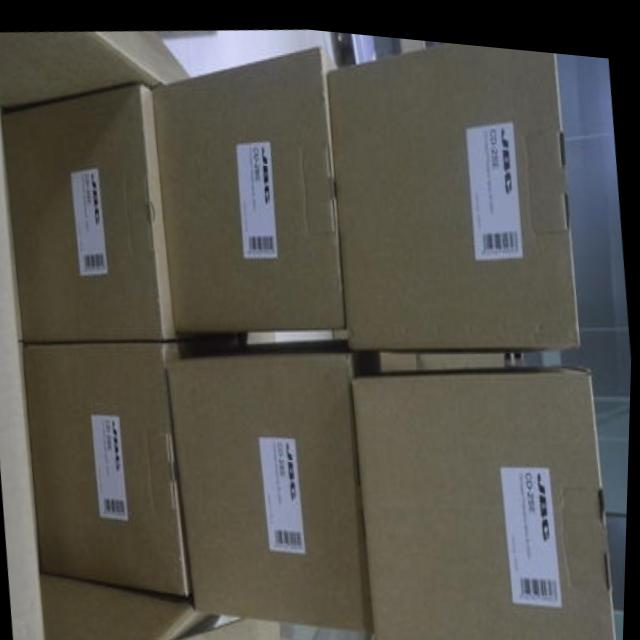box: (325, 34, 583, 344), (353, 354, 621, 640), (167, 332, 375, 627), (24, 329, 246, 592), (152, 41, 348, 332), (1, 81, 182, 341), (44, 575, 285, 640)
